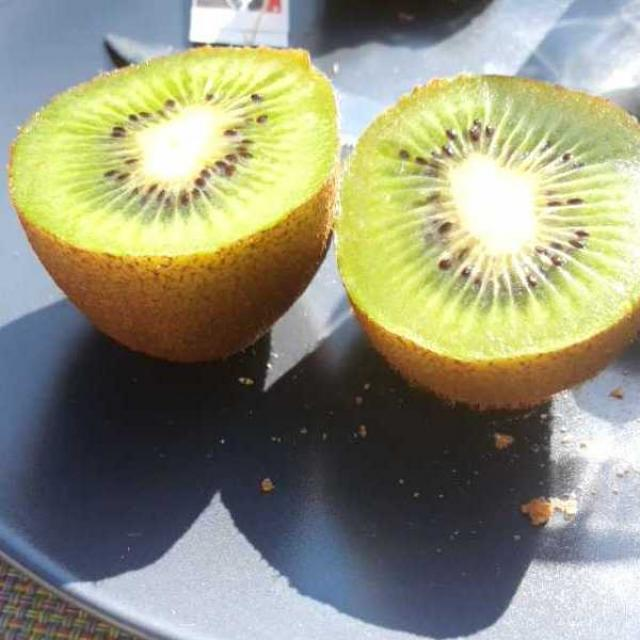kiwi: (22, 69, 636, 406)
